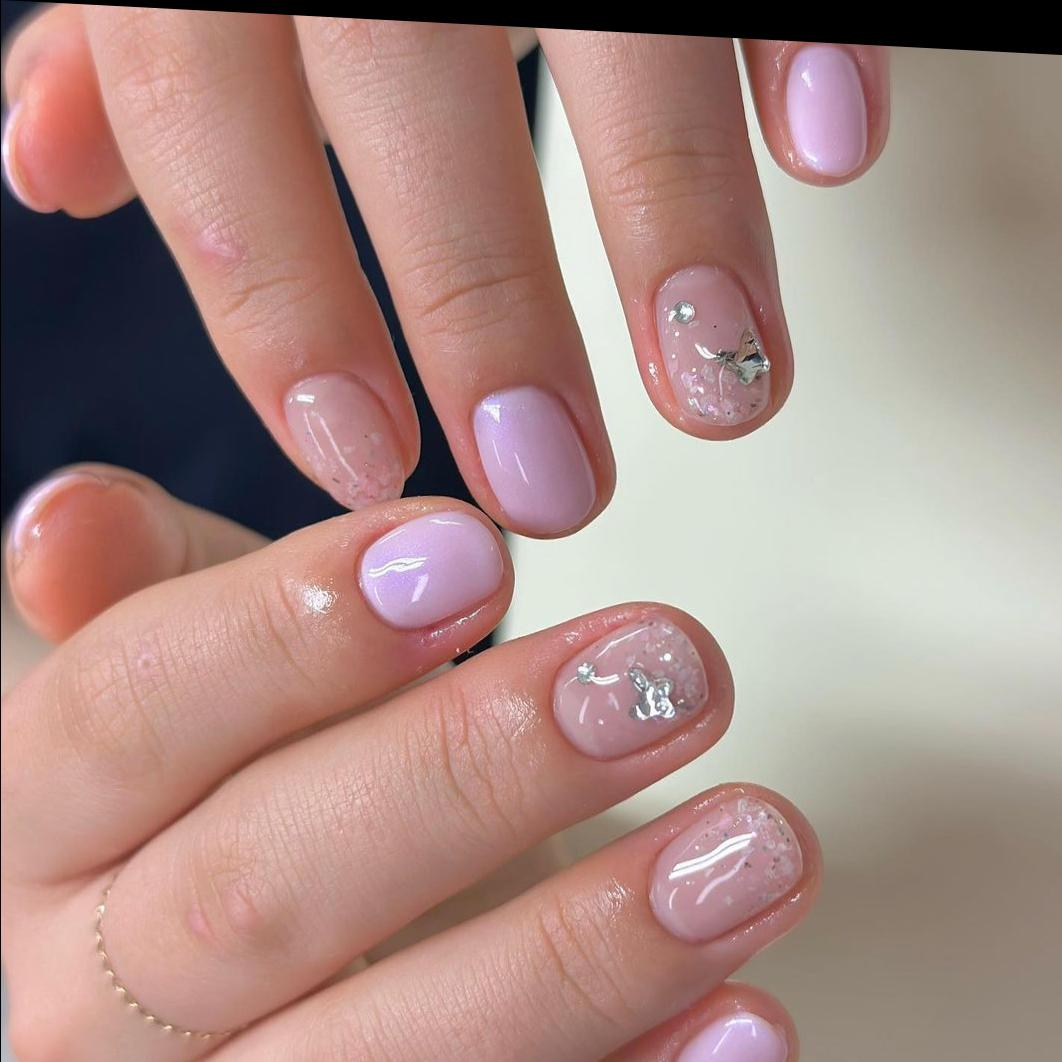nail: (644, 788, 806, 952), (548, 612, 711, 769), (733, 38, 890, 192), (468, 381, 599, 543), (649, 263, 774, 432), (353, 503, 506, 639), (279, 367, 411, 515), (668, 1008, 789, 1062)
